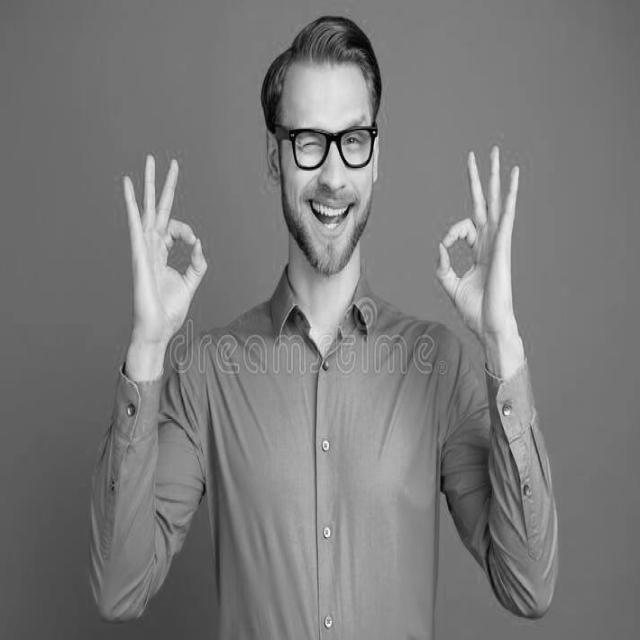perfect: (431, 140, 530, 366), (118, 148, 212, 366)
